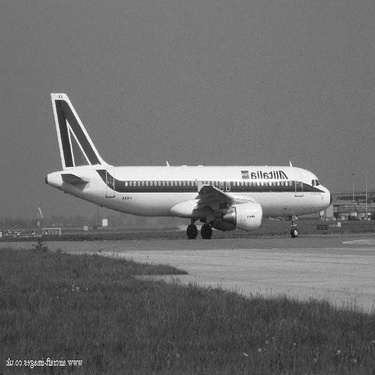airplane: (34, 80, 339, 256)
